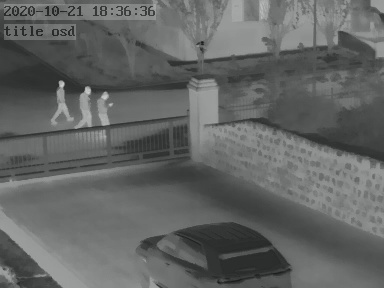person: (74, 85, 96, 126), (52, 79, 71, 125), (97, 89, 112, 126)
vehicle: (132, 215, 293, 288)
